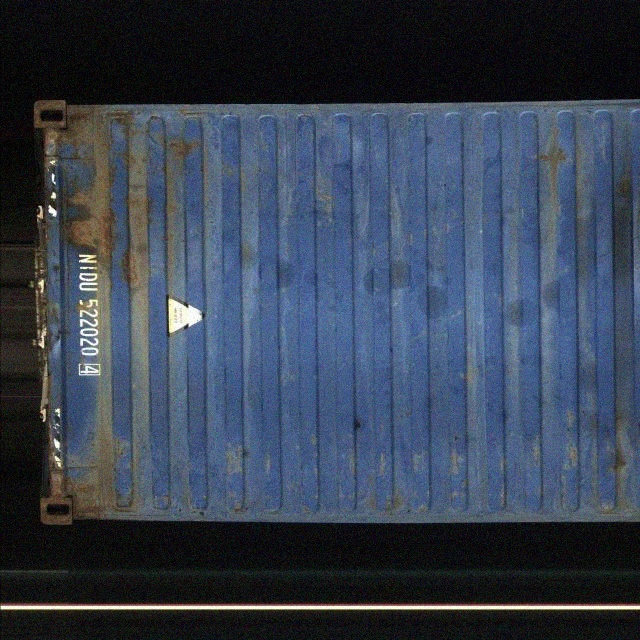Rusty: (70, 189, 114, 268), (68, 111, 120, 157), (122, 222, 150, 290), (66, 482, 113, 517)
